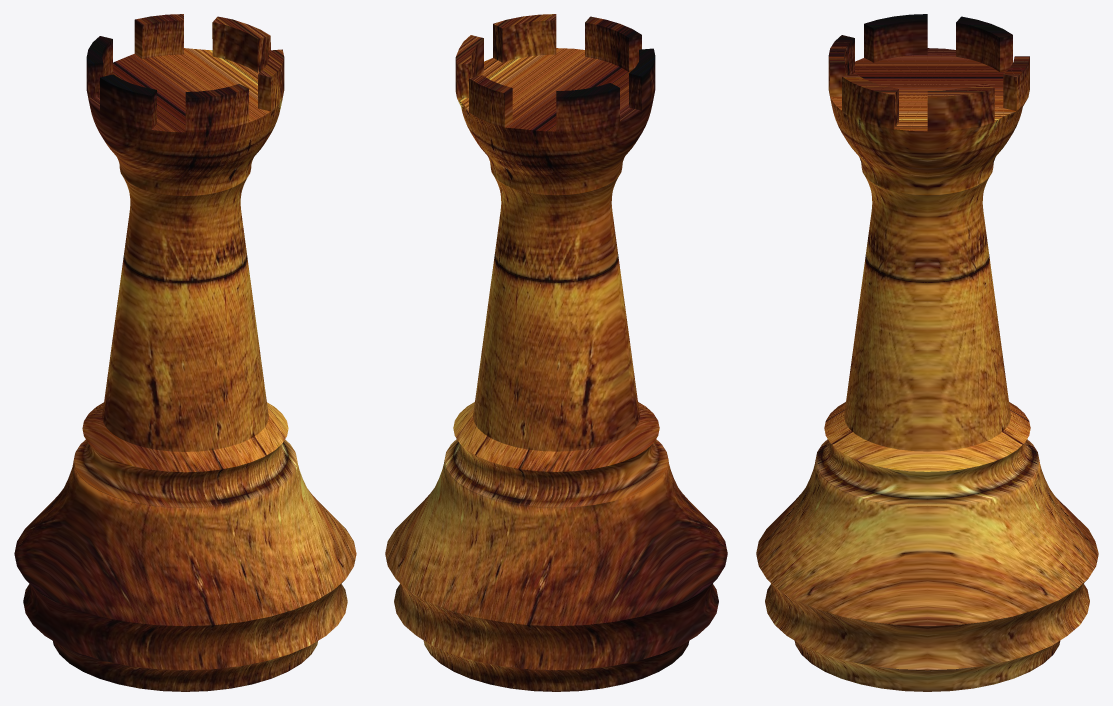
Rendered from tour.FBX.
3 renders of one model, left to right at view 1: azimuth 30°, elevation 25°; view 2: azimuth 150°, elevation 25°; view 3: azimuth 270°, elevation 25°, orthographic.
Visible parts, largest first — view 1: toura; view 2: toura; view 3: toura.
Part boxes in pixels (x1,y1,x2,y2): toura: [14, 14, 356, 691]; toura: [385, 14, 727, 691]; toura: [756, 14, 1098, 691].
Bounding box in the file's own units: 45.55 × 85 × 45.55.
